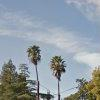Palm tree: (24, 35, 70, 98)
